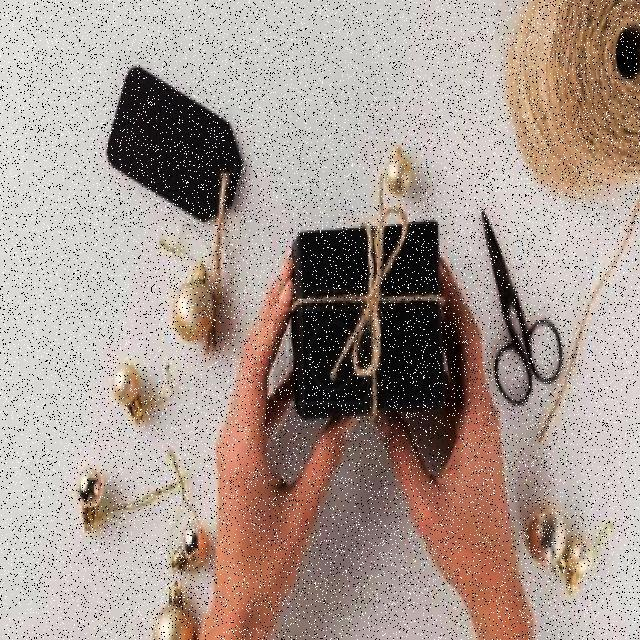scissors: (476, 203, 564, 410)
